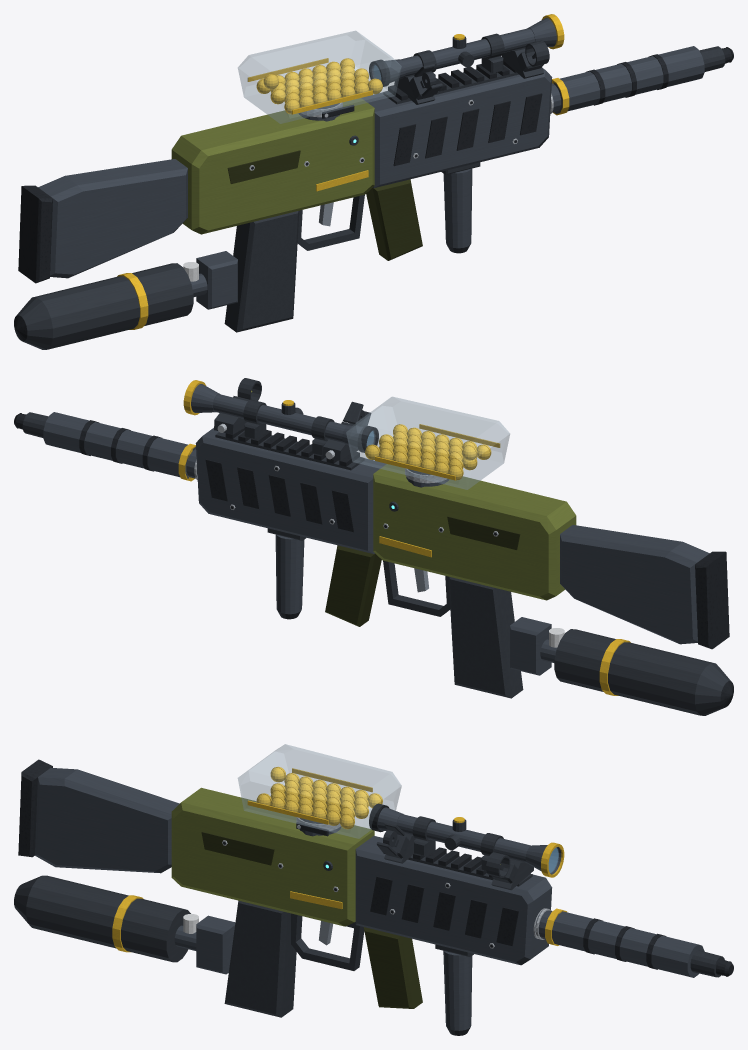
The model's file is bulldog_factory_v2.glb.
3 renders of one model, top to bottom at view 1: azimuth 30°, elevation 25°; view 2: azimuth 150°, elevation 25°; view 3: azimuth 330°, elevation 25°, orthographic.
Parts seen in each view (by area): view 1: body, stock, hopper_shell, tank, barrel, sight_mesh, grip, sight_canted_mesh; view 2: body, stock, hopper_shell, tank, barrel, sight_mesh, grip, sight_canted_mesh; view 3: body, stock, hopper_shell, tank, barrel, sight_mesh, grip, sight_canted_mesh.
Boxes of the visible parts, x1,y1,x2,y2 form: body: [171, 61, 552, 332]; stock: [18, 159, 187, 283]; hopper_shell: [238, 30, 401, 123]; tank: [14, 262, 207, 349]; barrel: [550, 46, 733, 115]; sight_mesh: [369, 14, 564, 86]; grip: [441, 162, 480, 253]; sight_canted_mesh: [394, 40, 549, 104]; body: [195, 428, 576, 698]; stock: [560, 525, 729, 649]; hopper_shell: [346, 396, 509, 489]; tank: [540, 628, 733, 715]; barrel: [14, 412, 197, 481]; sight_mesh: [183, 380, 378, 455]; grip: [267, 528, 306, 619]; sight_canted_mesh: [214, 378, 371, 460]; body: [171, 787, 552, 1017]; stock: [18, 759, 179, 873]; hopper_shell: [237, 744, 401, 838]; tank: [14, 875, 198, 962]; barrel: [533, 908, 733, 977]; sight_mesh: [369, 803, 564, 877]; grip: [435, 944, 473, 1035]; sight_canted_mesh: [376, 822, 533, 890].
Bounding box in the file's own units: 0.9065 × 0.304 × 0.11.
20 materials, 13 textured.
